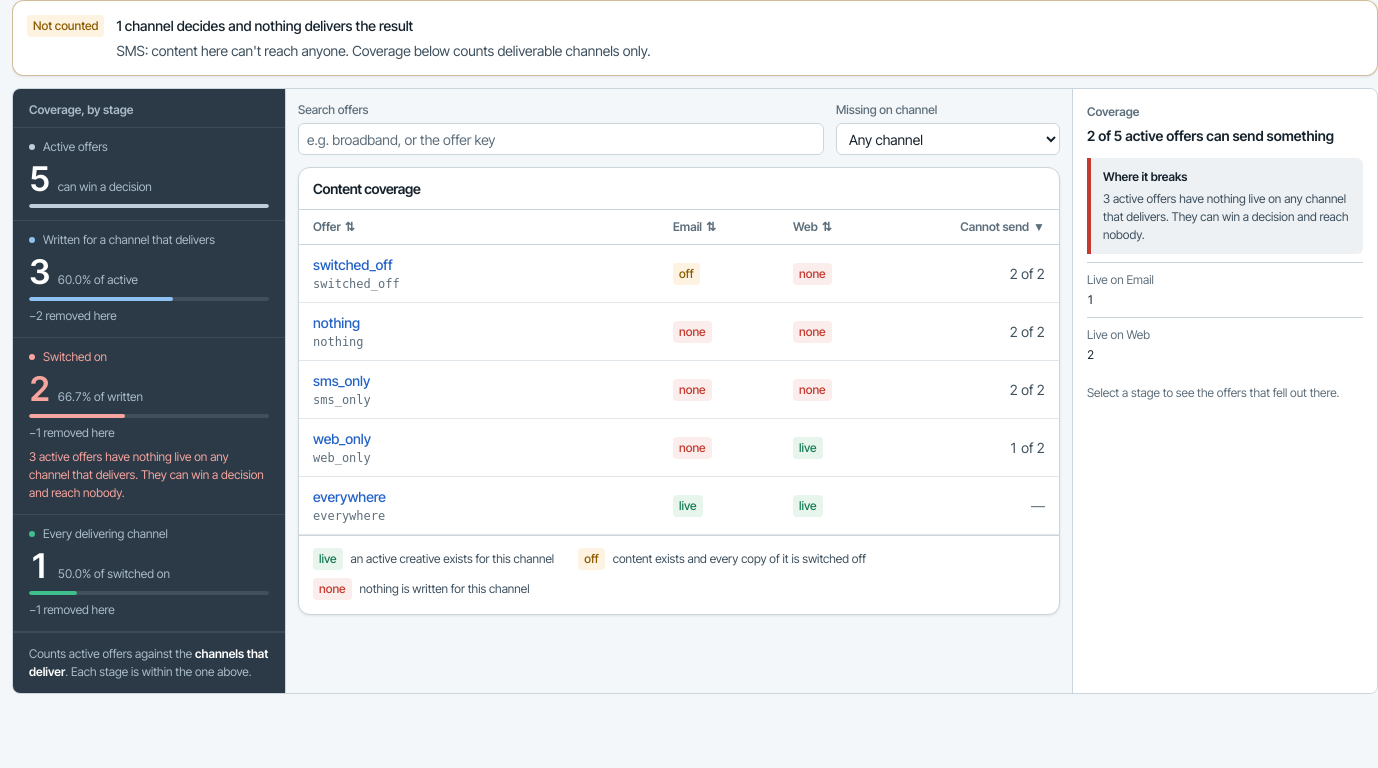
the coverage Cascade › at a stage, quotes what falls out in the legend’s own words, and counts exactly those offers
Click the button with aria-label "Written for a channel that delivers: 3, 60.0% of active, 2 r": click(129, 240) [13,221,285,338]
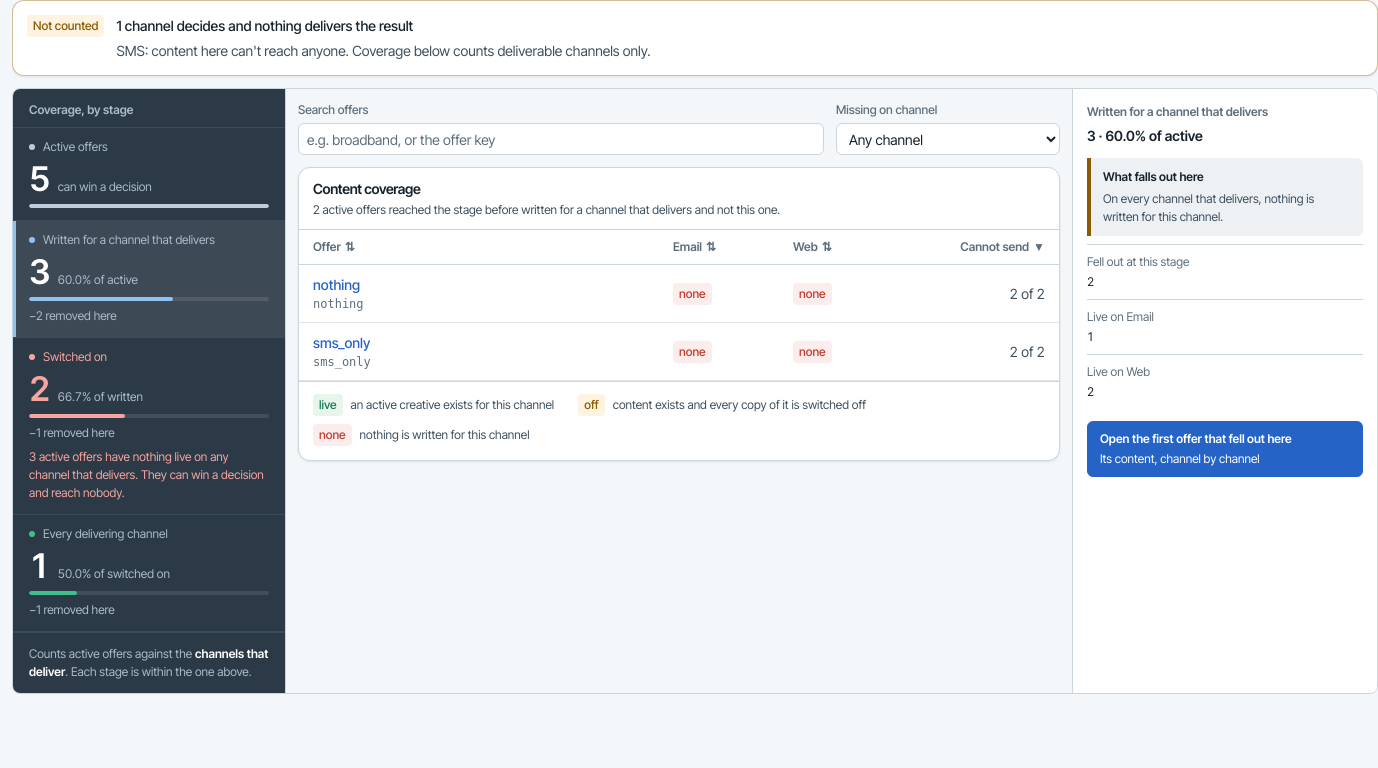
Expected: the text "What falls out here" is shown, [1103,169,1204,184]
